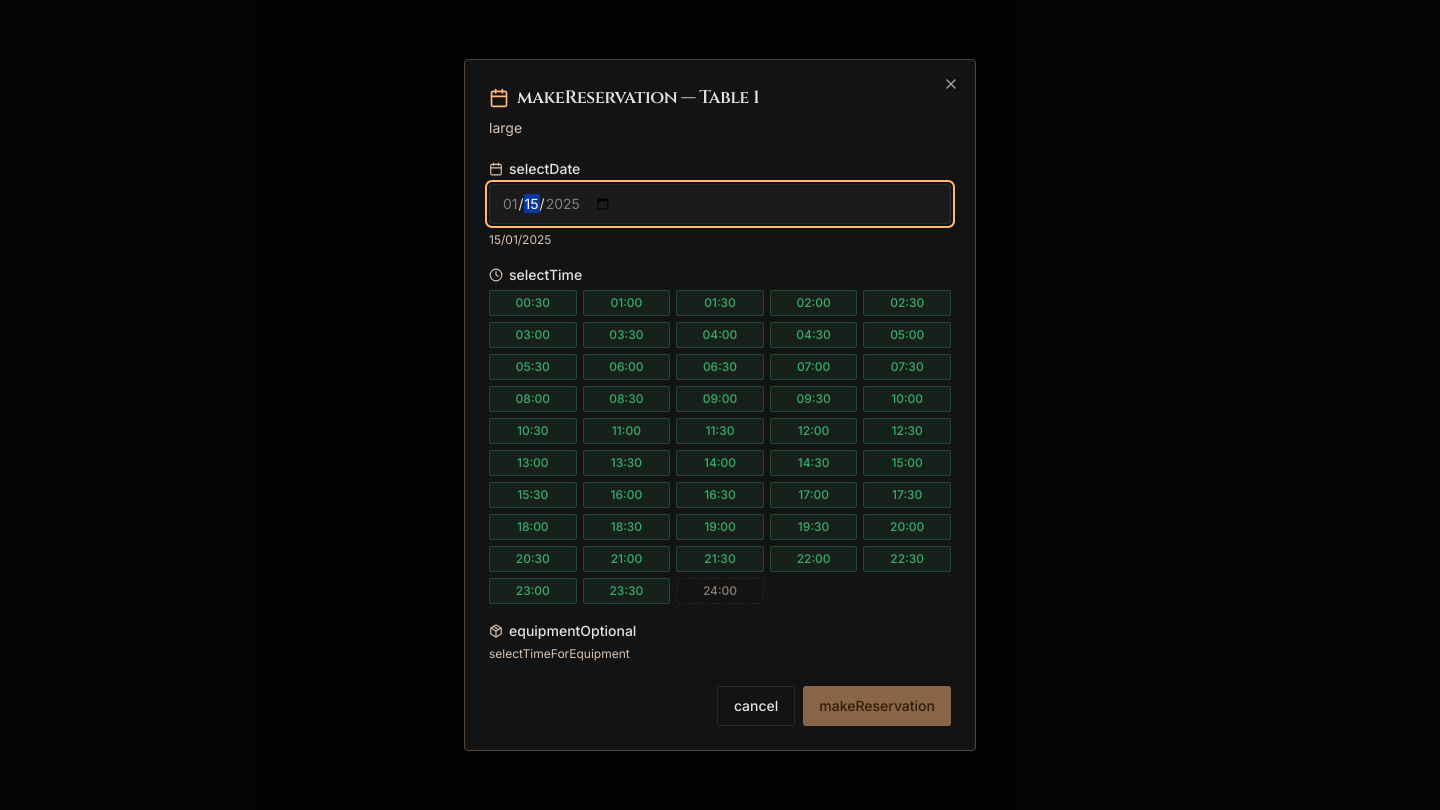
Test case: ReservationDialog › renders unavailable equipment guidance when overlaps exist
This screenshot has width=1440, height=810.
Type "2025-01-16" into the date field labelled "selectDate" at (720, 204), box [489,184,951,224]
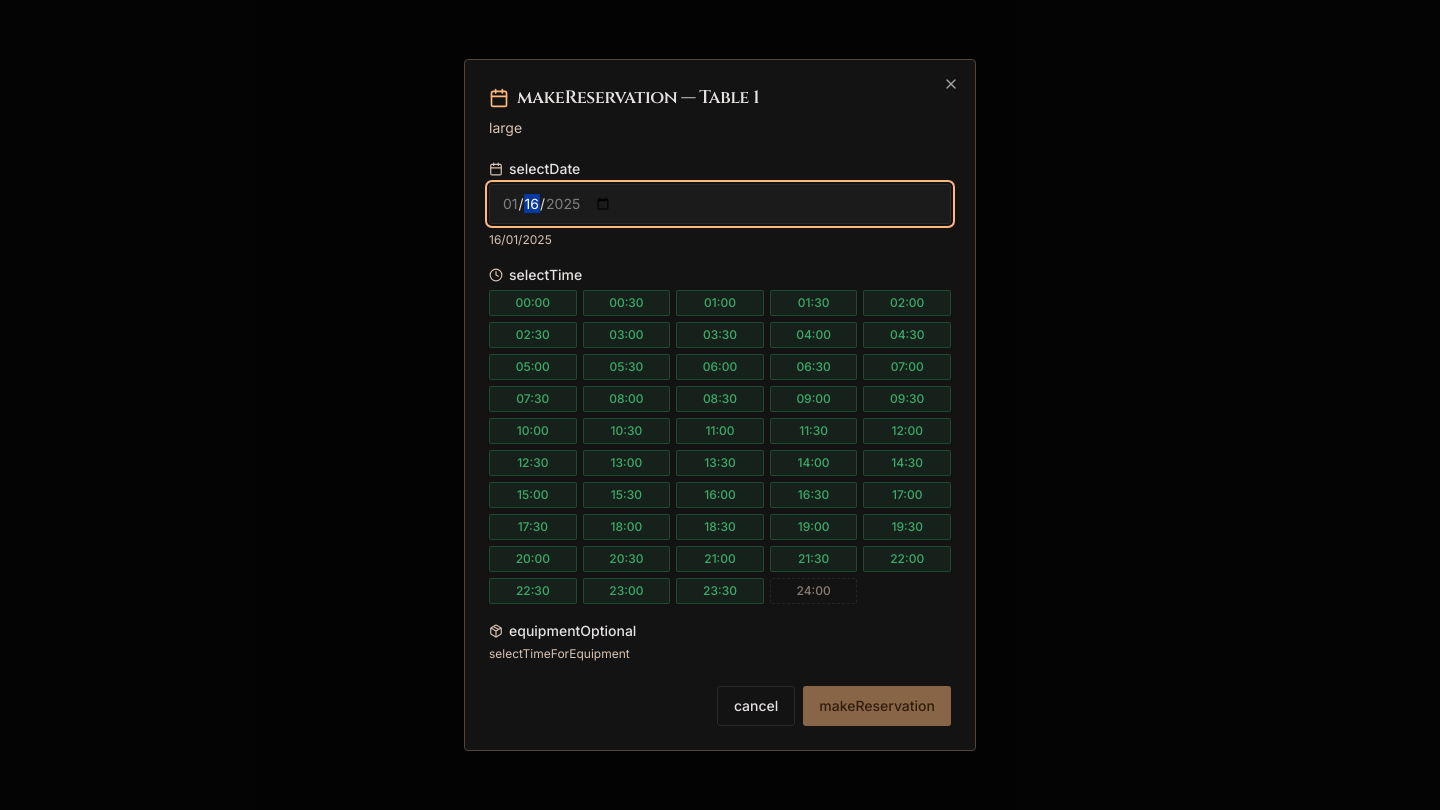
Click the button "00:00" at (533, 303), box [489,290,577,316]
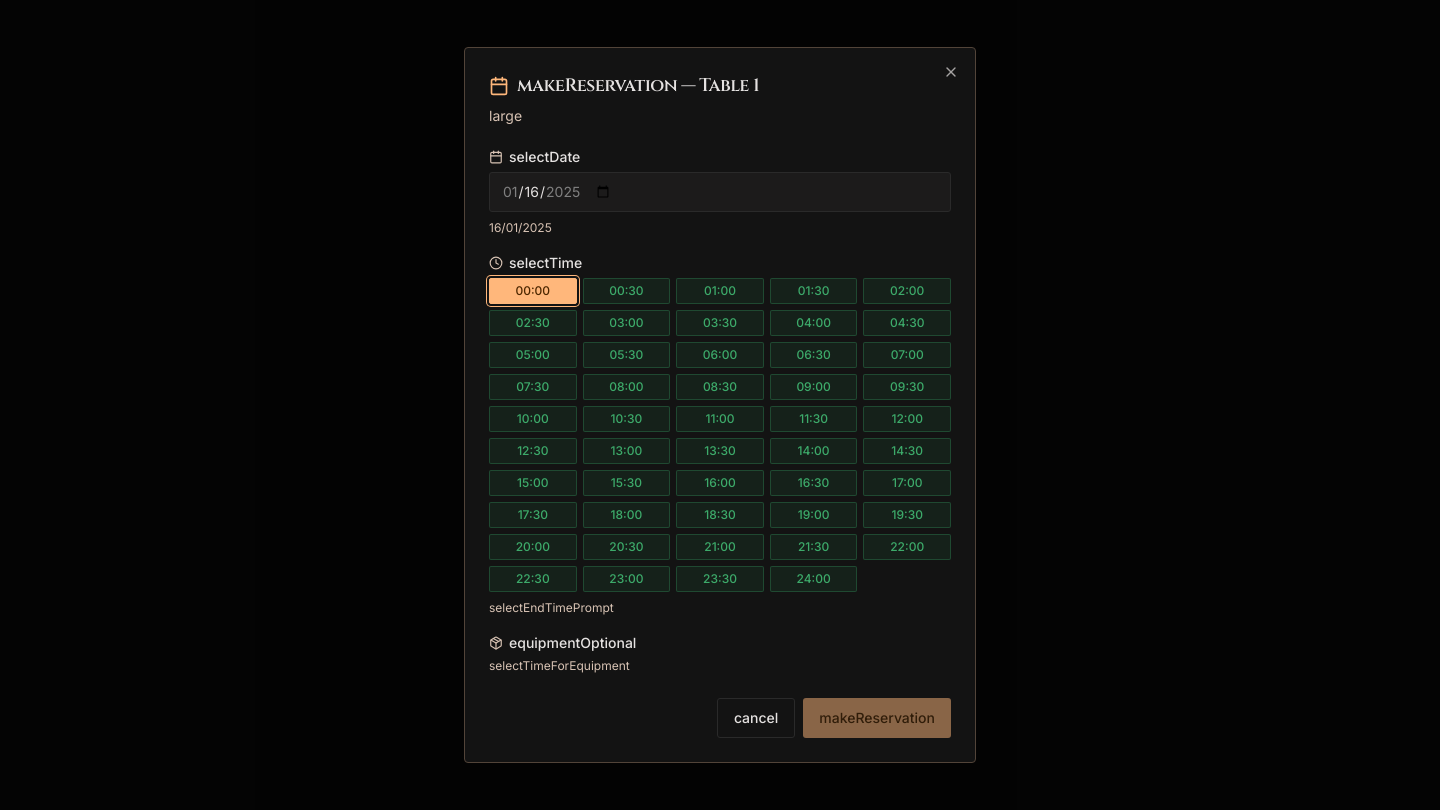
Click the button "00:30" at (626, 291), box [583,278,670,304]
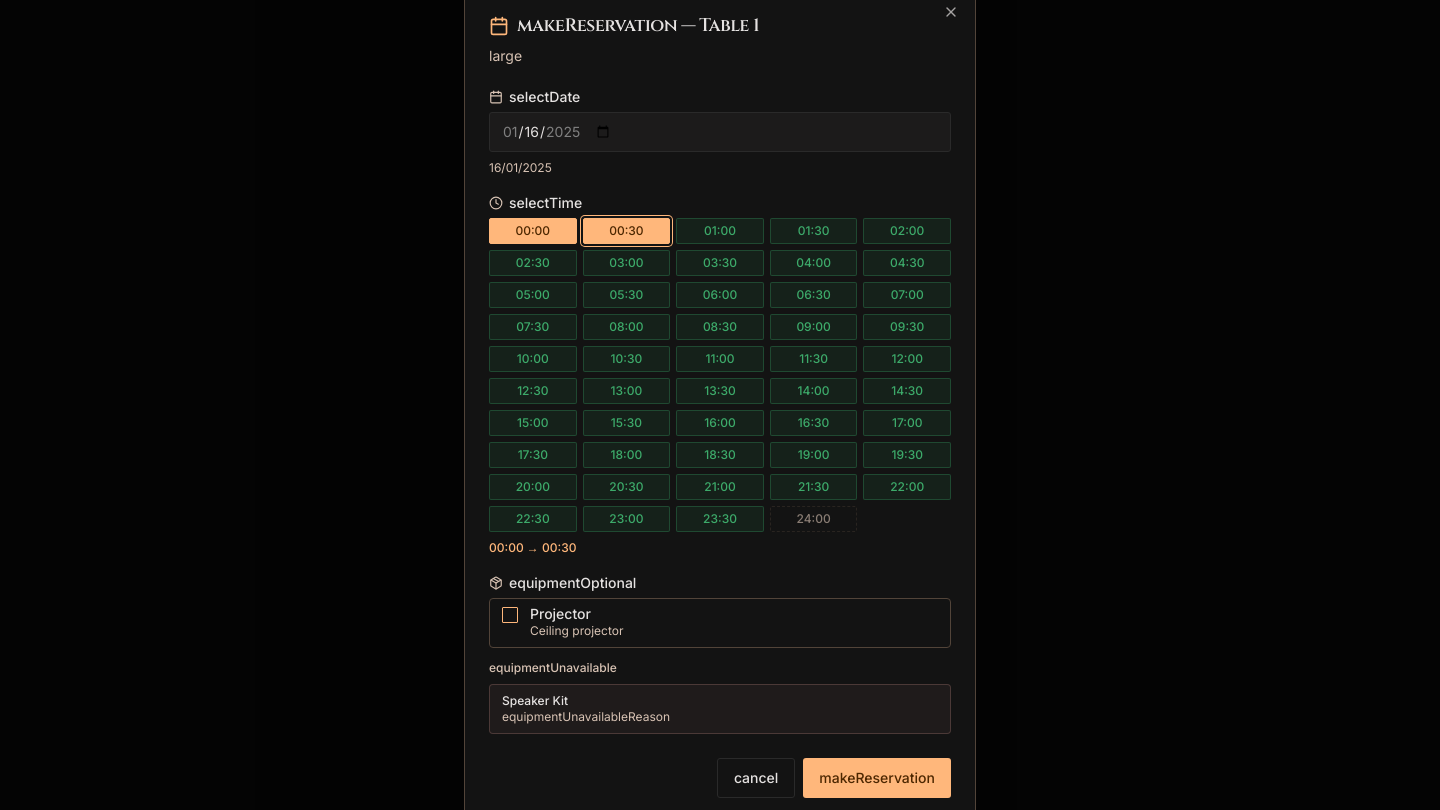
Now the text "equipmentUnavailable" is shown, box [489,660,617,675]
Now the text "equipmentUnavailableReason" is shown, box [502,709,670,724]
